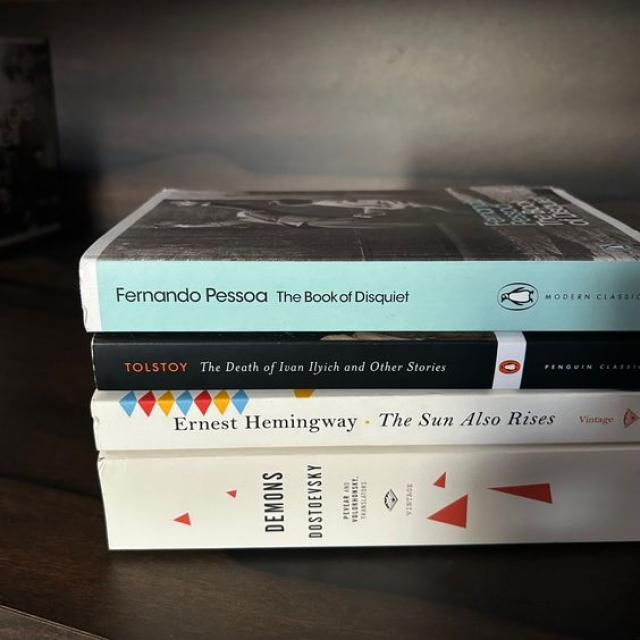book: (99, 446, 639, 548), (85, 258, 640, 336), (92, 390, 639, 449), (95, 332, 639, 390)
